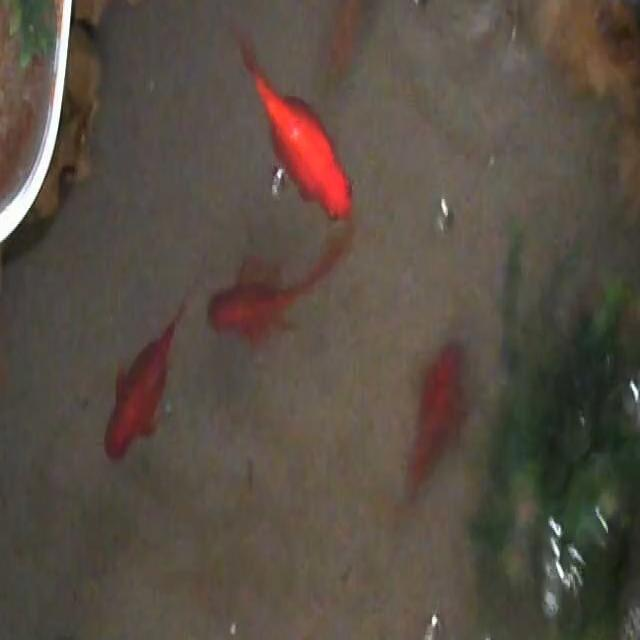fish: (232, 22, 353, 225), (206, 212, 353, 348), (103, 284, 198, 466), (402, 335, 469, 509), (324, 0, 367, 78)
